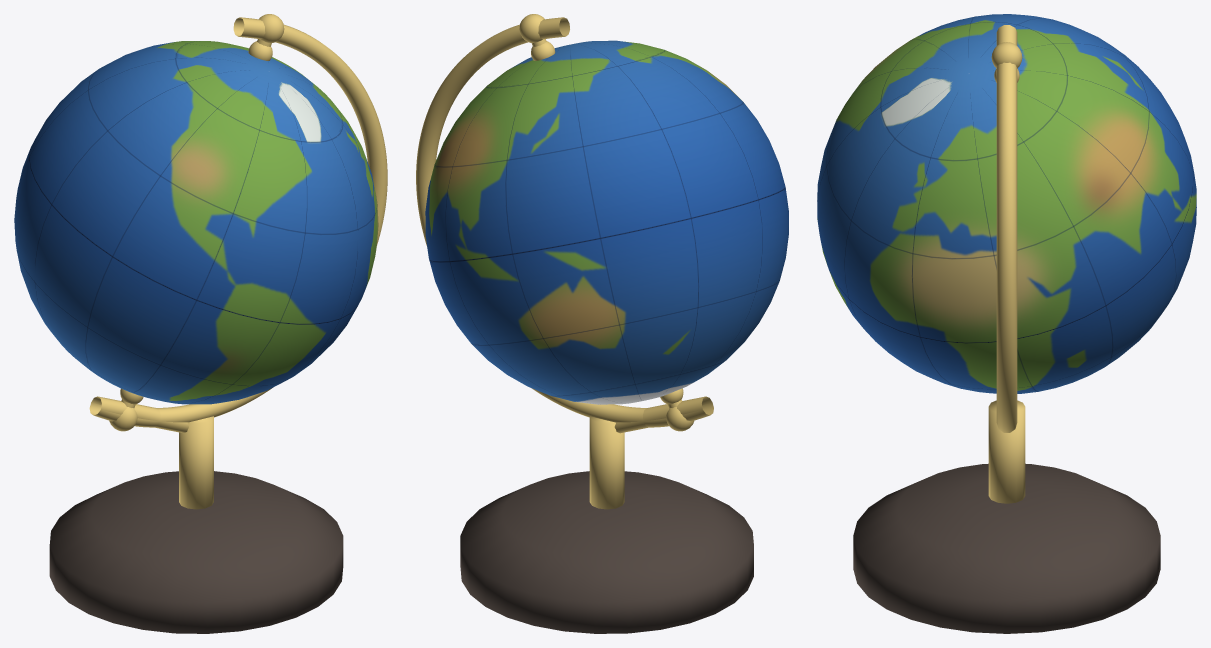
File: shelf_globe.glb
3 views of the same model, side by side, from view 1: azimuth 30°, elevation 25°; view 2: azimuth 150°, elevation 25°; view 3: azimuth 270°, elevation 25° (orthographic). The views are drawn at different scales.
Visible parts, largest first — view 1: shelf_globe; view 2: shelf_globe; view 3: shelf_globe.
Part boxes in pixels (<box>): shelf_globe: <box>14,14,387,633</box>; shelf_globe: <box>416,14,788,633</box>; shelf_globe: <box>817,14,1196,633</box>.
Bounding box in the file's own units: 0.1144 × 0.1709 × 0.1037.
3 materials, 1 textured.
